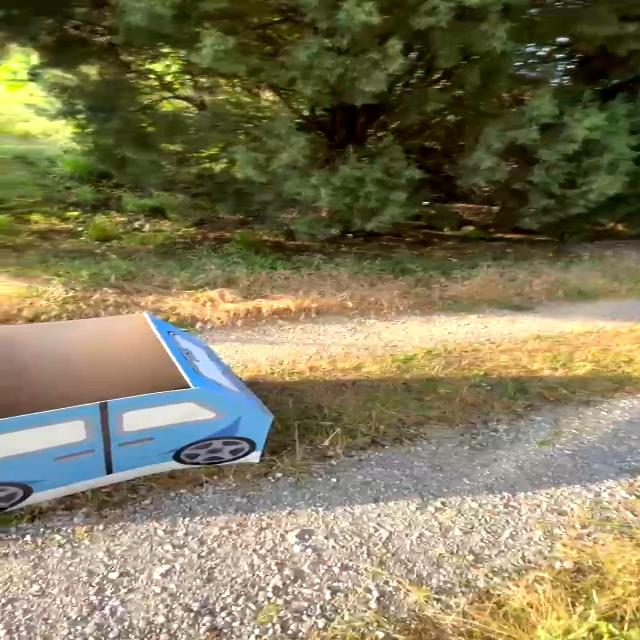blue_car: (0, 276, 318, 536)
